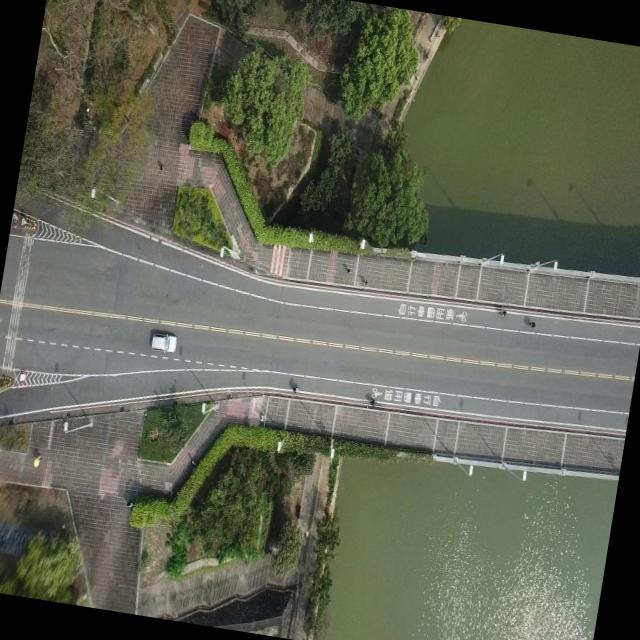car: (148, 326, 178, 354)
